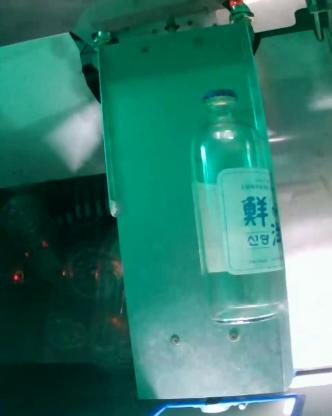Glass Bottle: (193, 90, 287, 324)
